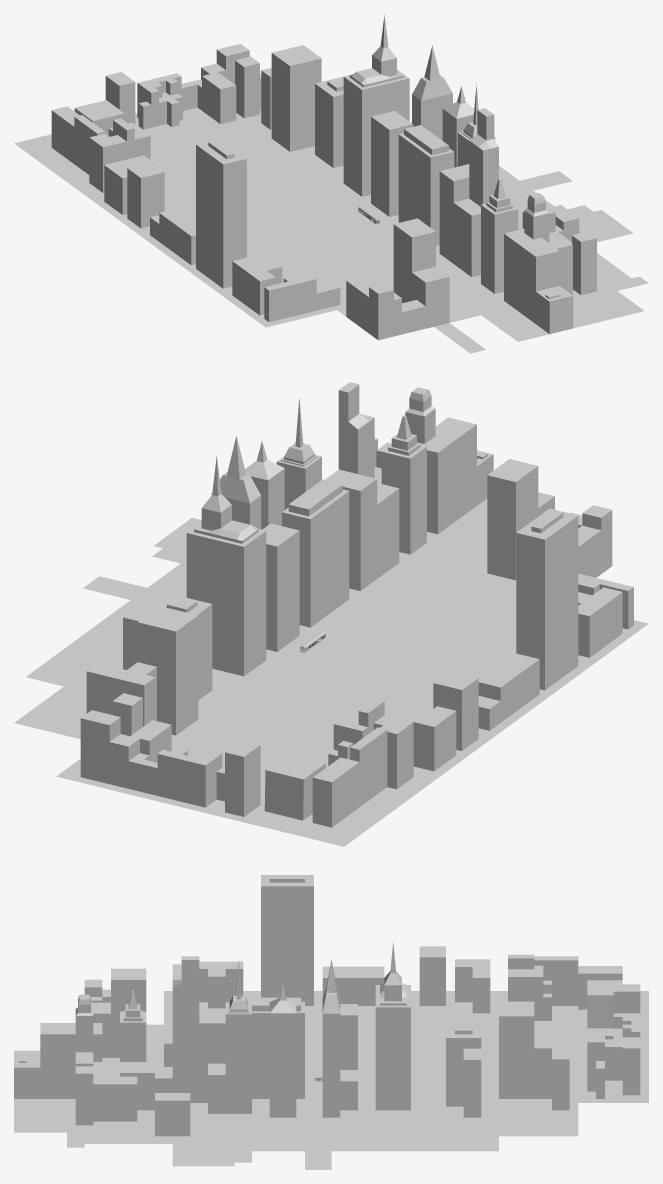
Rendered from train_scene_002.glb.
The picture shows the model from 3 angles, top to bottom: view 1: azimuth 30°, elevation 25°; view 2: azimuth 150°, elevation 25°; view 3: azimuth 270°, elevation 25°; orthographic projection. The views are drawn at different scales.
Parts seen in each view (by area): view 1: NYC_Constructed; view 2: NYC_Constructed; view 3: NYC_Constructed.
Boxes of the visible parts, x1,y1,x2,y2 form: NYC_Constructed: (14,15,648,353); NYC_Constructed: (14,382,648,846); NYC_Constructed: (14,875,648,1169).
Size of what is drawn, in the model's own units: 336 by 142 by 504.
3 materials, 2 textured.
